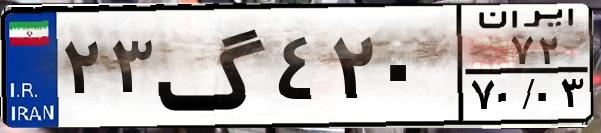0: (385, 28, 445, 110), (495, 70, 520, 125), (535, 70, 560, 125)
2: (330, 28, 385, 110), (57, 26, 110, 100), (537, 27, 568, 80)
3: (110, 28, 156, 98), (560, 70, 590, 125)
4: (270, 28, 330, 110)
7: (508, 27, 537, 80), (470, 70, 495, 125)
گ: (156, 12, 270, 120)
